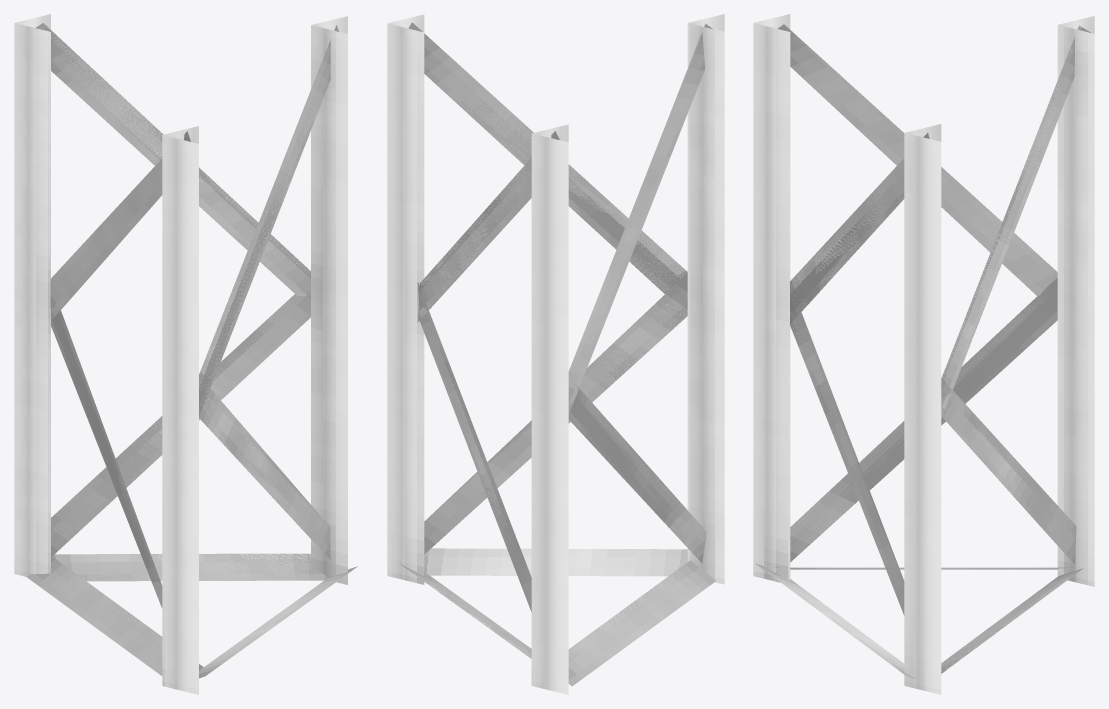
File: TriStructure.glb
3 renders of one model, left to right at view 1: azimuth 30°, elevation 25°; view 2: azimuth 150°, elevation 25°; view 3: azimuth 270°, elevation 25°, orthographic.
Visible parts, largest first — view 1: TriStructure; view 2: TriStructure; view 3: TriStructure.
Boxes of the visible parts, <box> form: TriStructure: <box>14,14,357,694</box>; TriStructure: <box>387,14,724,694</box>; TriStructure: <box>753,14,1094,694</box>.
Size of the model in its own units: 1.07 by 2.16 by 1.2.
Materials: 1 (1 with a texture image).
